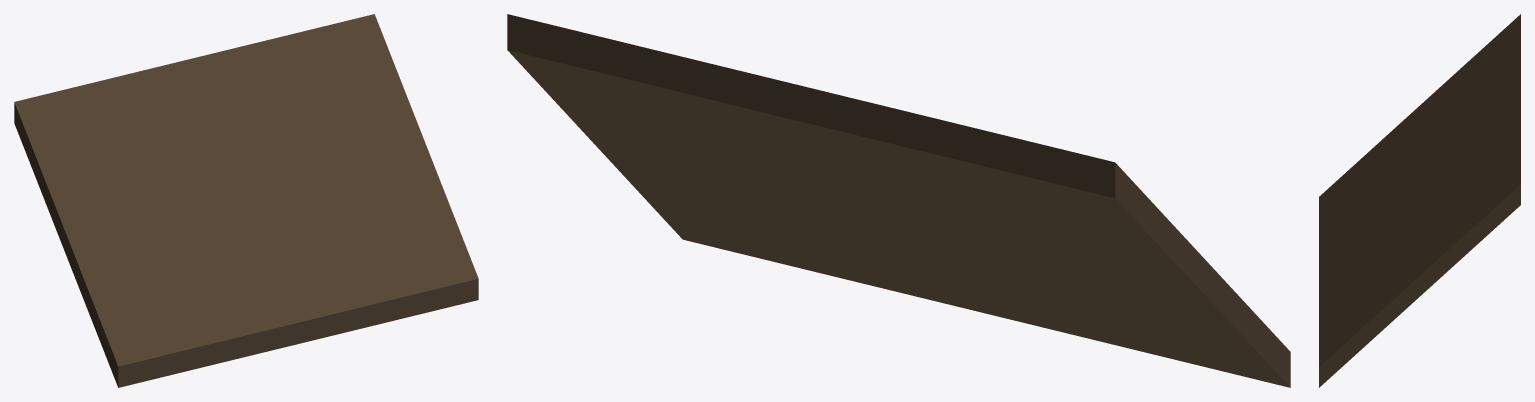
Rendered from dach_2x1.glb.
3 renders of one model, left to right at view 1: azimuth 30°, elevation 25°; view 2: azimuth 150°, elevation 25°; view 3: azimuth 270°, elevation 25°, orthographic. The views are drawn at different scales.
Parts seen in each view (by area): view 1: dach_2x1; view 2: dach_2x1; view 3: dach_2x1.
Part boxes in pixels (x1,y1,x2,y2): dach_2x1: (14, 14, 478, 387); dach_2x1: (507, 14, 1290, 387); dach_2x1: (1319, 14, 1520, 387).
Size of the model in its own units: 2 by 1.11 by 1.
